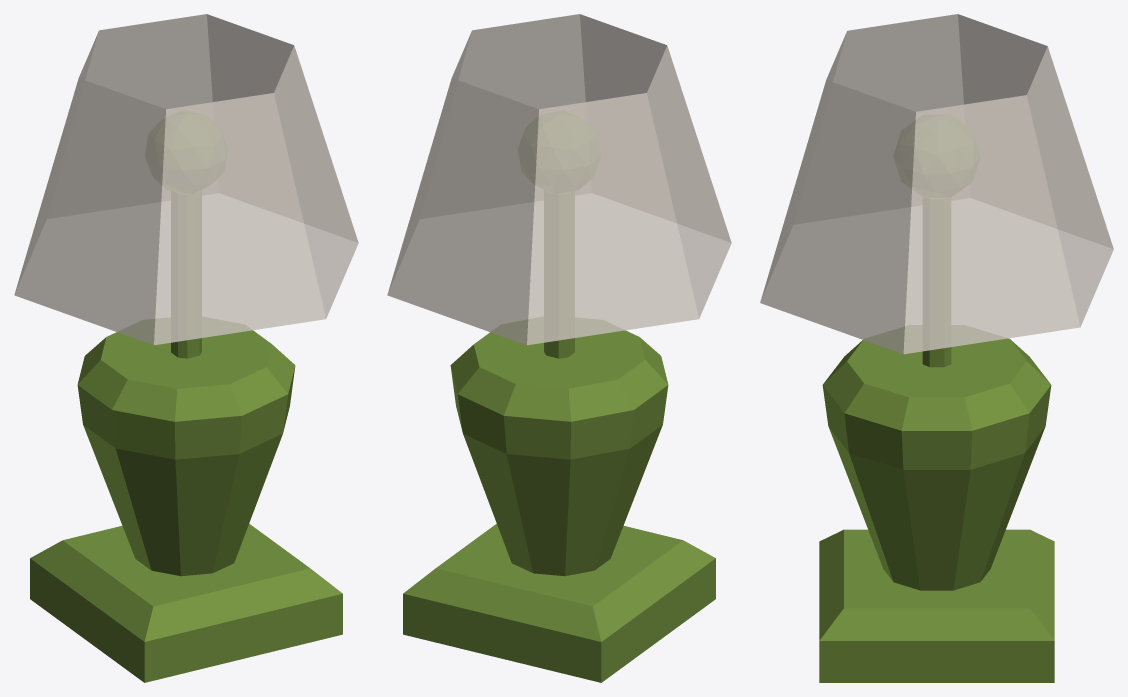
The model's file is lamp.fbx.
3 views of the same model, side by side, from view 1: azimuth 30°, elevation 25°; view 2: azimuth 150°, elevation 25°; view 3: azimuth 270°, elevation 25° (orthographic). The views are drawn at different scales.
Parts seen in each view (by area): view 1: Cube; view 2: Cube; view 3: Cube.
Boxes of the visible parts, x1,y1,x2,y2 form: Cube: (14, 14, 358, 682); Cube: (387, 14, 731, 682); Cube: (760, 14, 1113, 682).
Bounding box in the file's own units: 314 × 535 × 301.
